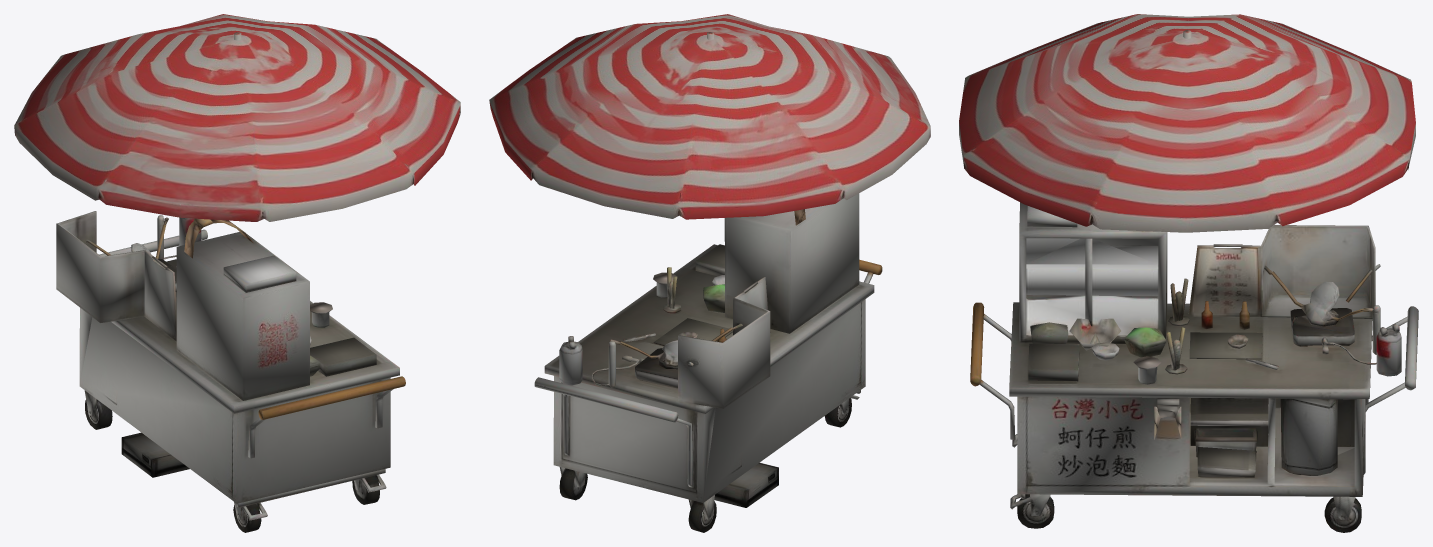
File: foodcart.glb
3 renders of one model, left to right at view 1: azimuth 30°, elevation 25°; view 2: azimuth 150°, elevation 25°; view 3: azimuth 270°, elevation 25°, orthographic. The views are drawn at different scales.
Parts seen in each view (by area): view 1: tripo_node_50633afb-9535-49c8-9146-7ab01bc486e6; view 2: tripo_node_50633afb-9535-49c8-9146-7ab01bc486e6; view 3: tripo_node_50633afb-9535-49c8-9146-7ab01bc486e6.
Part boxes in pixels (bbox=[...]): tripo_node_50633afb-9535-49c8-9146-7ab01bc486e6: bbox=[14, 14, 460, 532]; tripo_node_50633afb-9535-49c8-9146-7ab01bc486e6: bbox=[489, 14, 930, 532]; tripo_node_50633afb-9535-49c8-9146-7ab01bc486e6: bbox=[959, 14, 1418, 532].
Bounding box in the file's own units: 0.8926 × 0.998 × 0.8965.
1 material, 1 textured.
